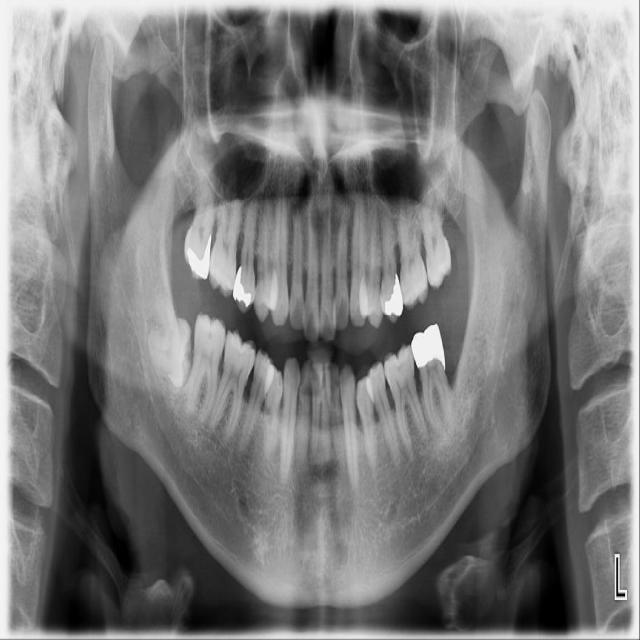Crown: (412, 324, 445, 368)
Filling: (183, 234, 213, 279), (230, 265, 259, 307), (383, 273, 406, 318)
impacted tooth: (146, 318, 192, 382)
